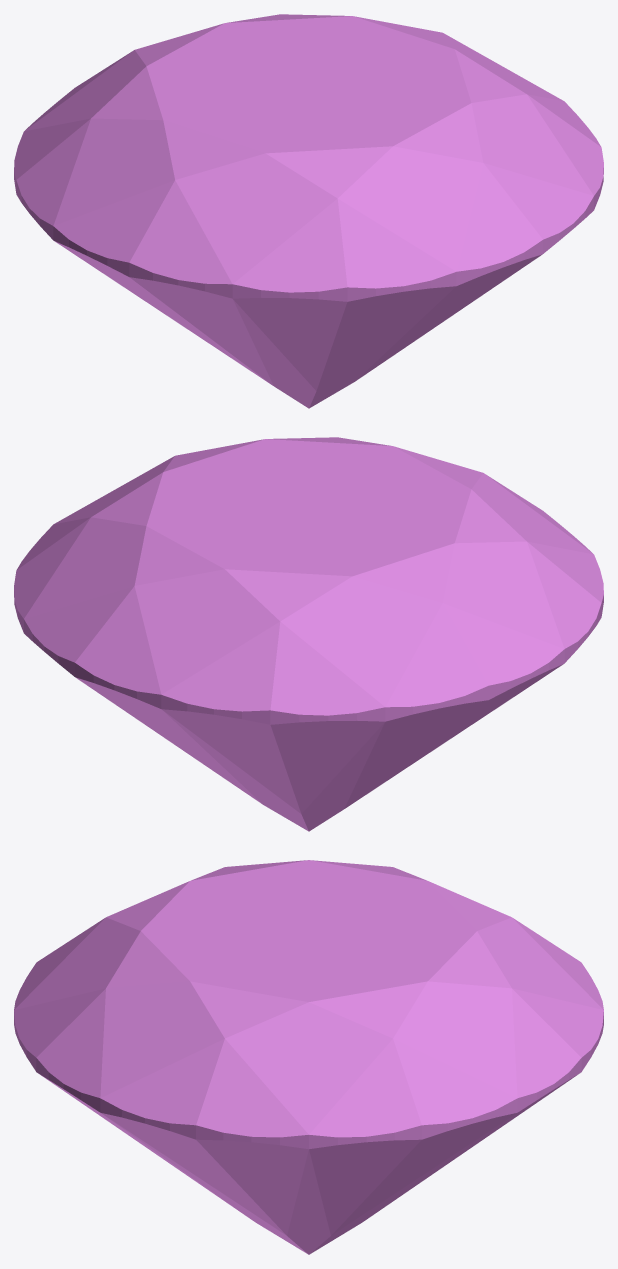
The model's file is rund.glb.
3 views of the same model, one above another, from view 1: azimuth 30°, elevation 25°; view 2: azimuth 150°, elevation 25°; view 3: azimuth 270°, elevation 25° (orthographic).
Visible parts, largest first — view 1: Round; view 2: Round; view 3: Round.
Part boxes in pixels (x1,y1,x2,y2): Round: (14,14,603,408); Round: (14,437,603,831); Round: (14,860,603,1254).
Size of the model in its own units: 0.03 by 0.0182 by 0.03.
